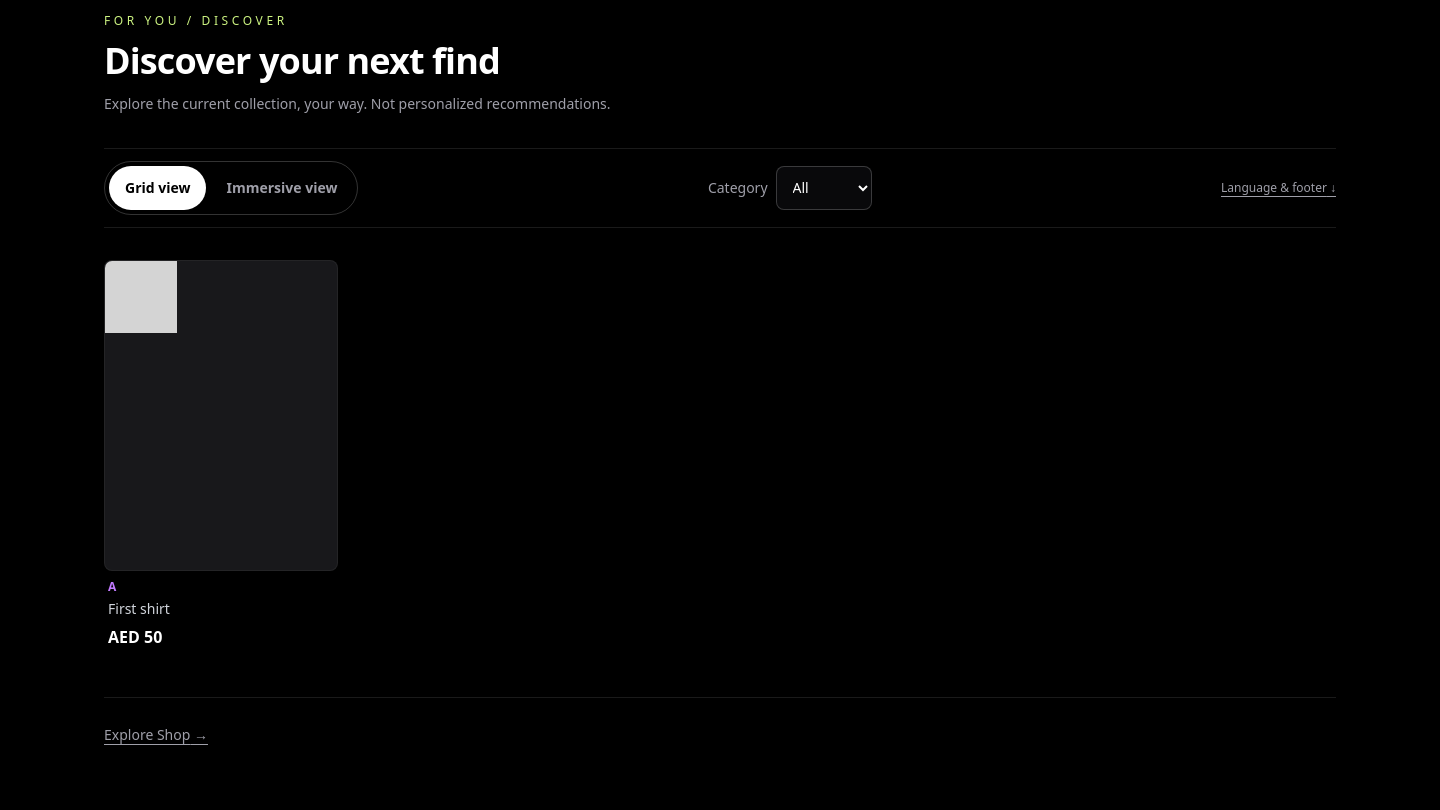
For You view choice › shows an honest end and does not wrap to duplicate products
(page scrolled)
Click the button "Immersive view" at (282, 188), box [210,166,353,210]
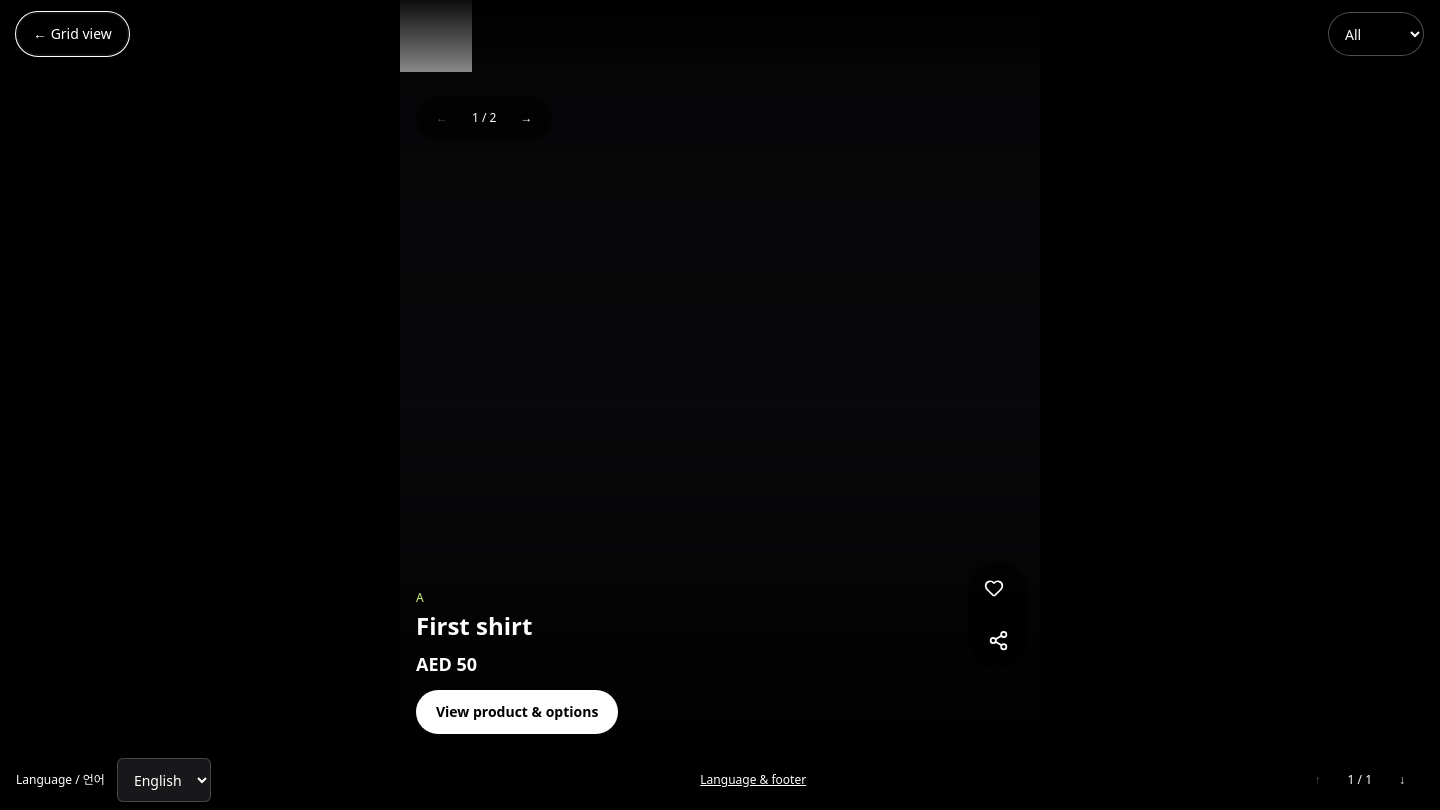
Click the button named "Next product" at (1402, 780), box [1380,758,1424,802]
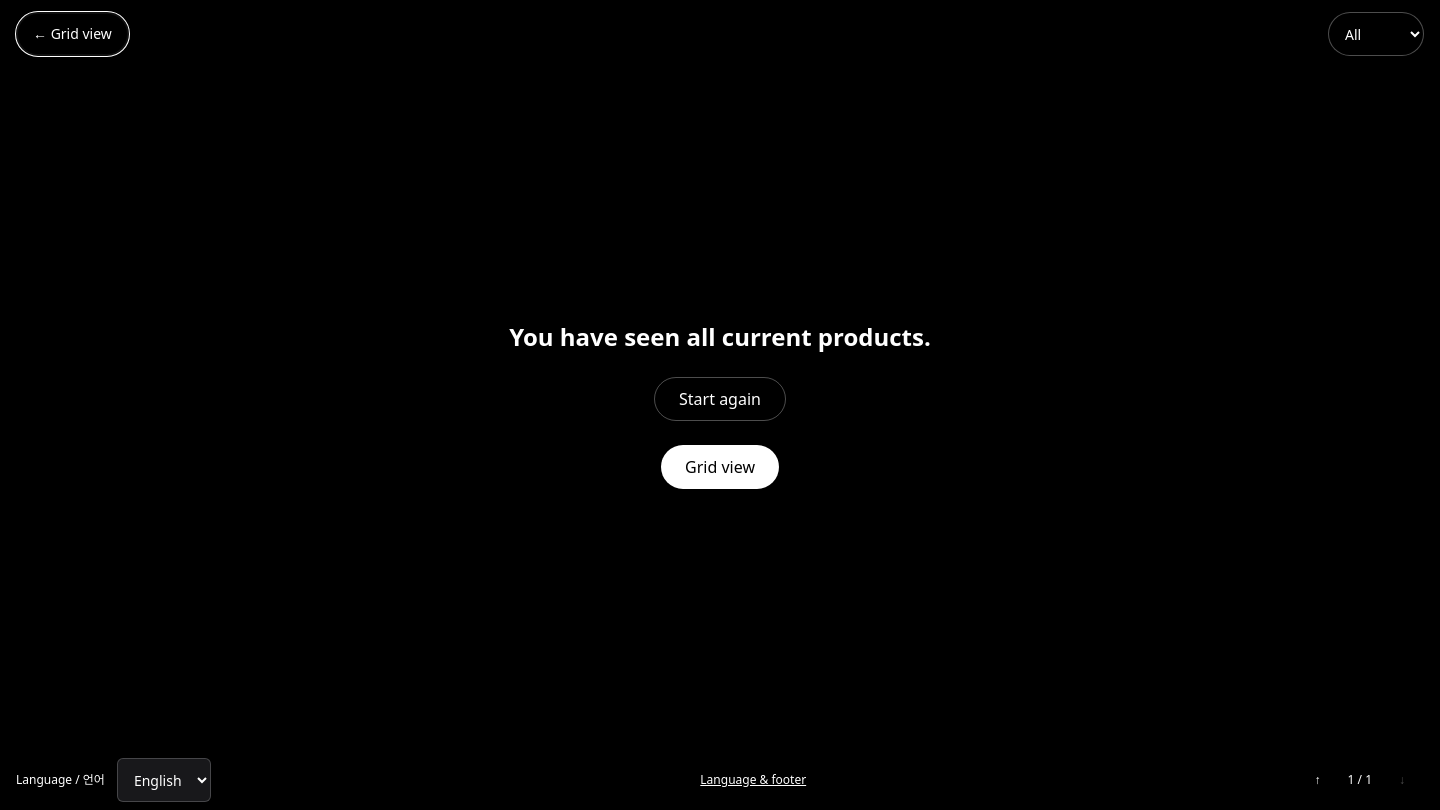
Check: the heading "You have seen all current products." is shown, box [509,321,931,353]
